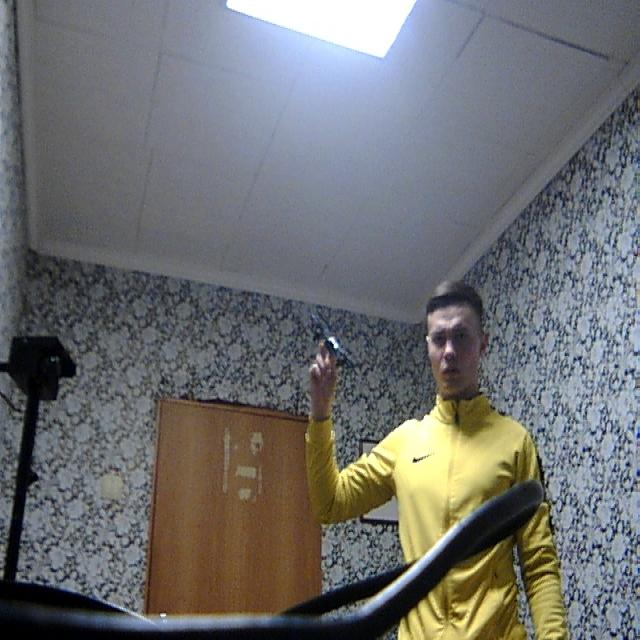drone: (304, 314, 370, 381)
